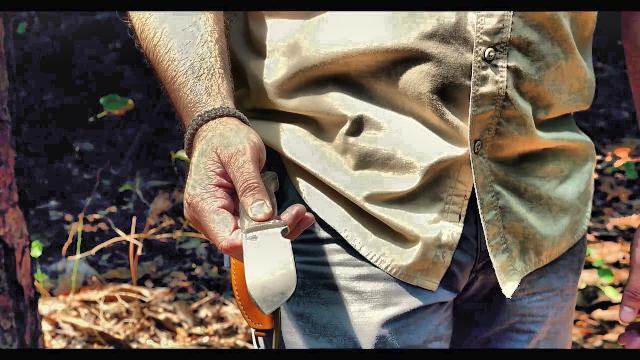knife: (180, 162, 318, 318)
